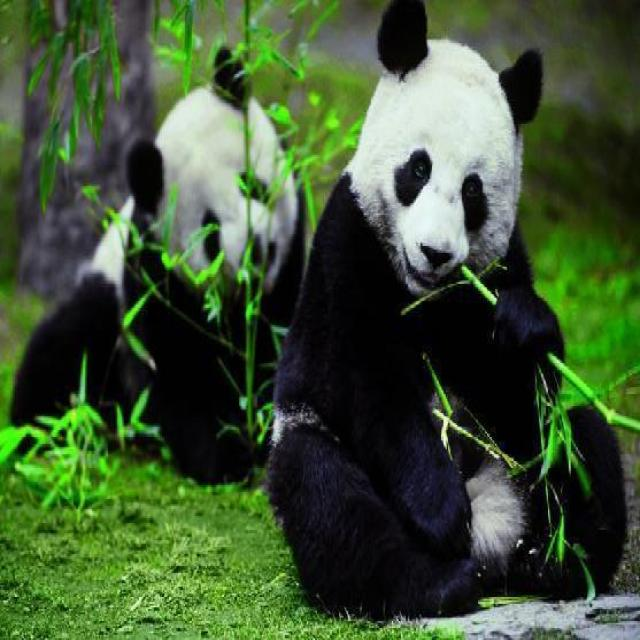panda: (7, 0, 629, 619)
